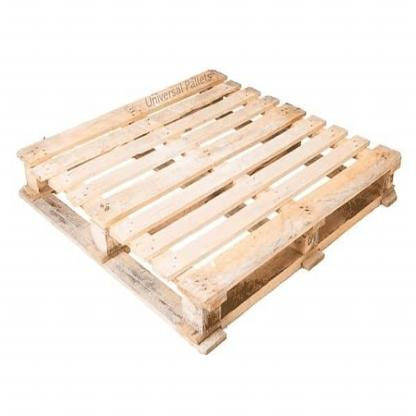BoxFace: (17, 66, 403, 338)
